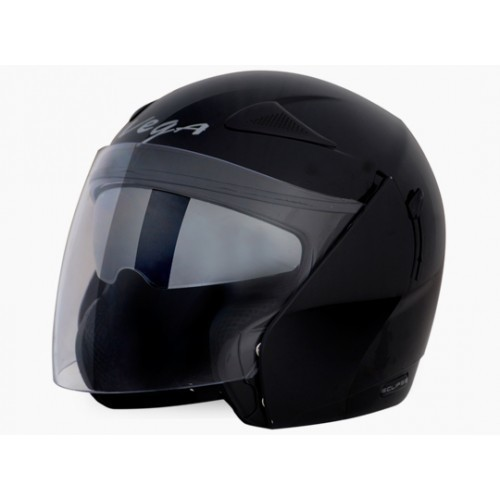helmet: (55, 77, 448, 425)
